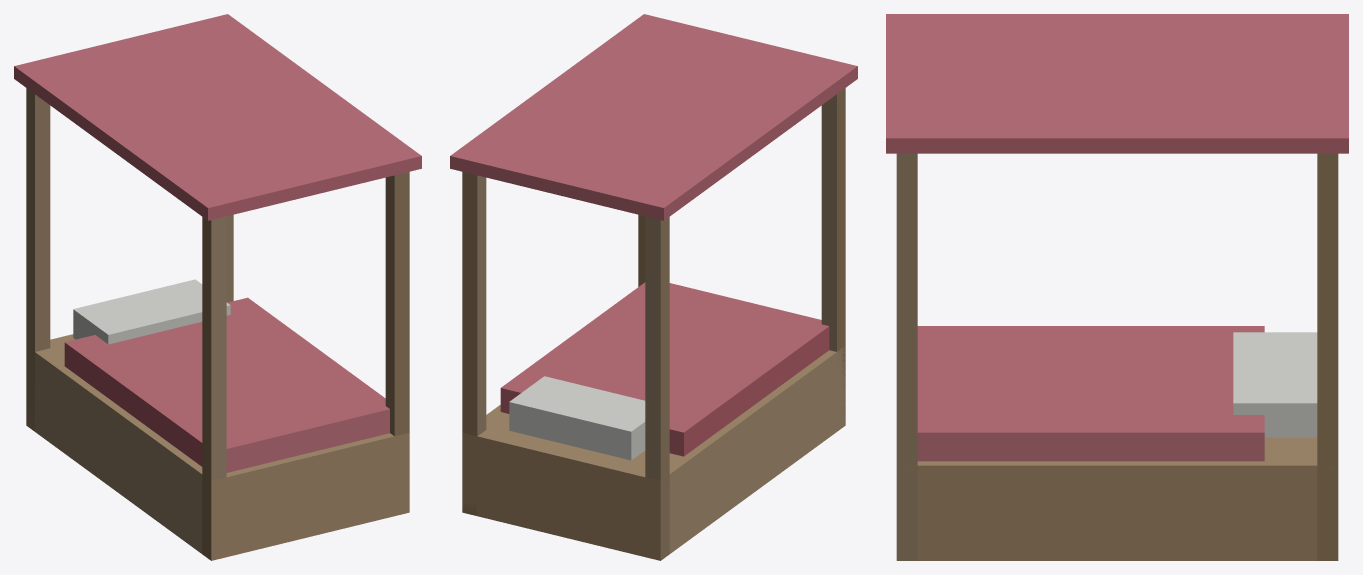
Rendered from furn_bed_fancy.glb.
3 renders of one model, left to right at view 1: azimuth 30°, elevation 25°; view 2: azimuth 150°, elevation 25°; view 3: azimuth 270°, elevation 25°, orthographic. The views are drawn at different scales.
Visible parts, largest first — view 1: furn_bed_fancy2; view 2: furn_bed_fancy2; view 3: furn_bed_fancy2.
Boxes of the visible parts, x1,y1,x2,y2 form: furn_bed_fancy2: (14,14,421,560); furn_bed_fancy2: (450,14,857,560); furn_bed_fancy2: (886,14,1348,560).
Bounding box in the file's own units: 1.4 × 2.24 × 2.2.
